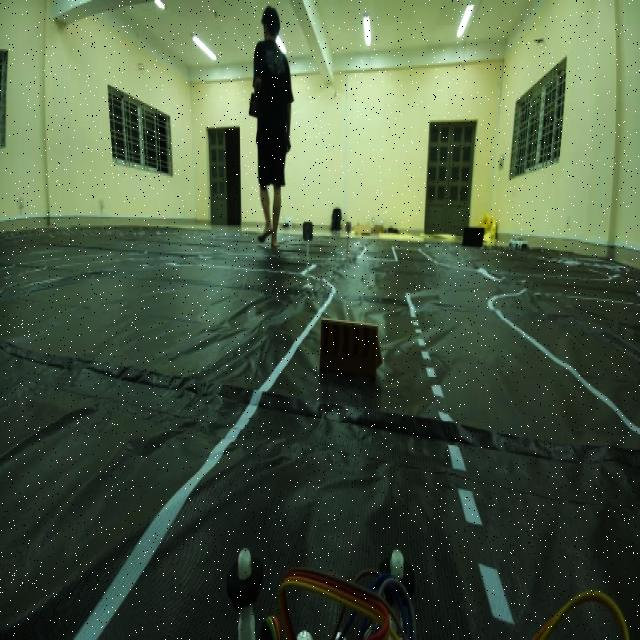roadblock: (313, 294, 395, 406)
